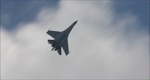maybay_muctieu: (46, 19, 78, 56)
